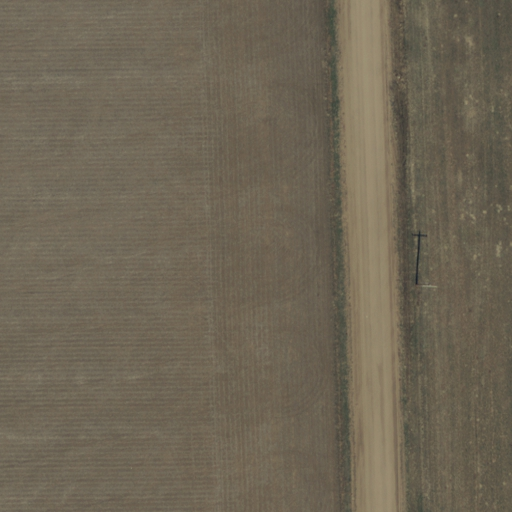DT: (410, 277, 442, 296)
